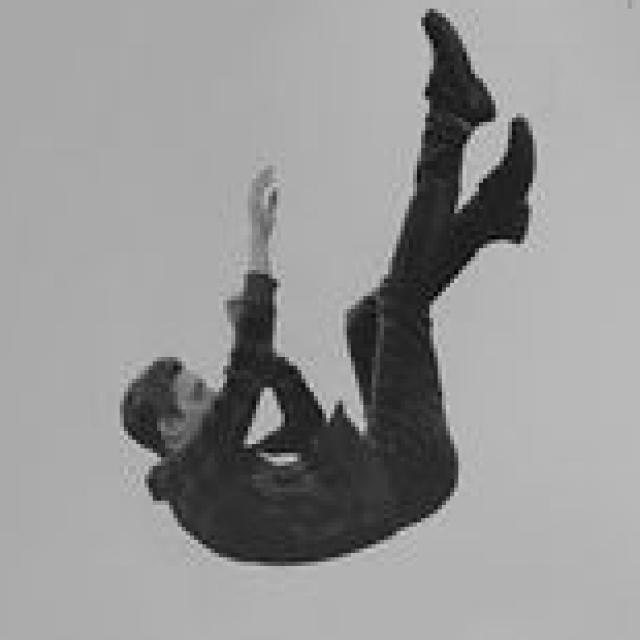fall: (116, 0, 544, 561)
